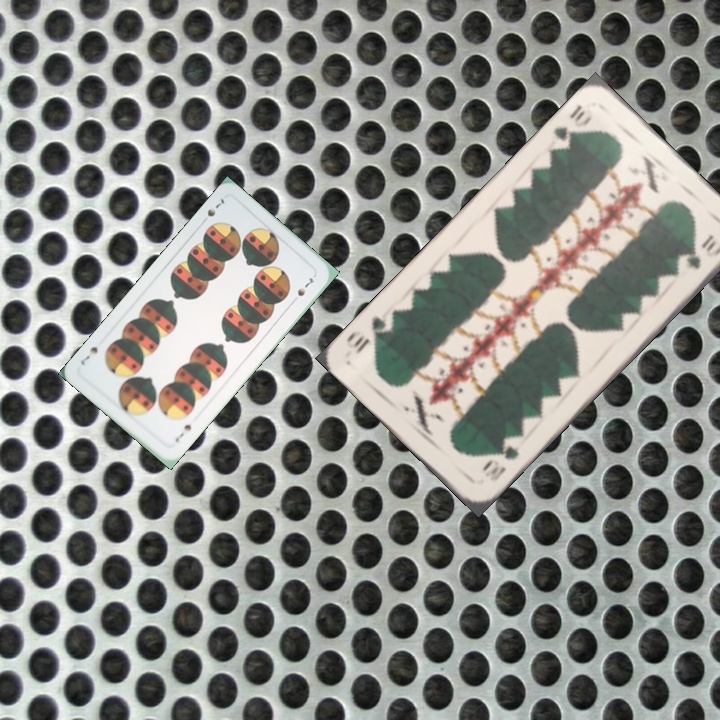G10: (549, 100, 594, 153), (478, 441, 522, 484)
S7: (197, 195, 227, 227), (171, 420, 194, 445)
